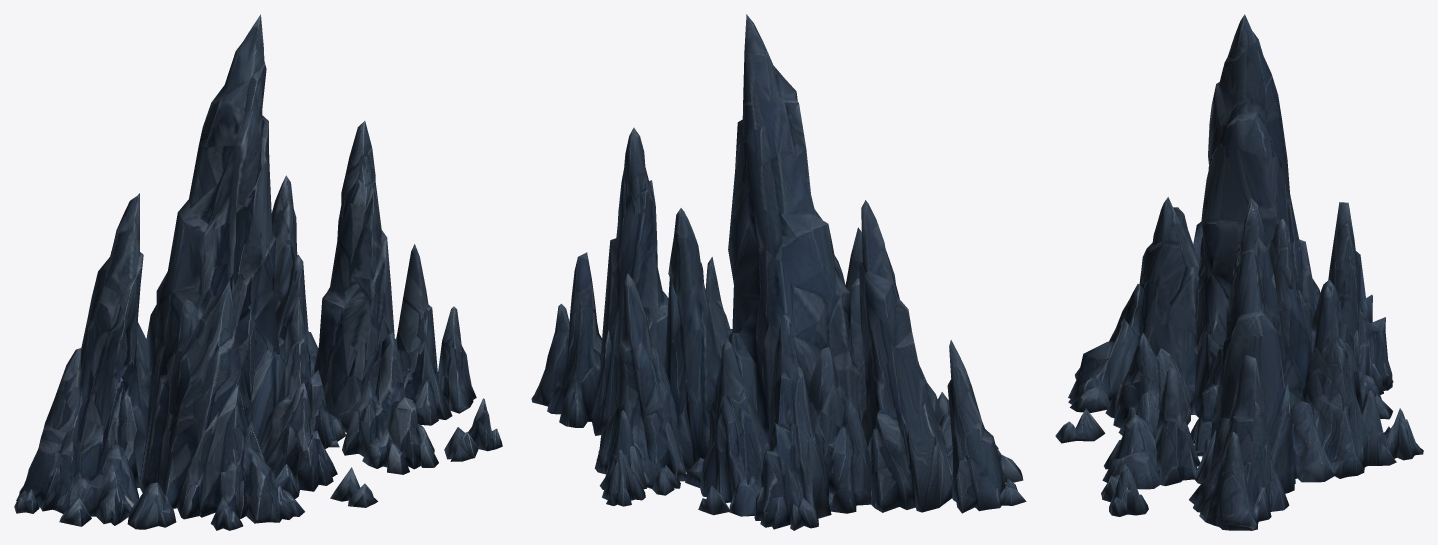
Rendered from needle_rocks.glb.
The picture shows the model from 3 angles, left to right: view 1: azimuth 30°, elevation 25°; view 2: azimuth 150°, elevation 25°; view 3: azimuth 270°, elevation 25°; orthographic projection. The views are drawn at different scales.
Visible parts, largest first — view 1: Model; view 2: Model; view 3: Model.
Boxes of the visible parts, <box> form: Model: <box>14,14,502,530</box>; Model: <box>531,14,1026,530</box>; Model: <box>1055,14,1423,530</box>.
Size of the model in its own units: 27.54 by 24 by 19.17.
Materials: 1 (1 with a texture image).
